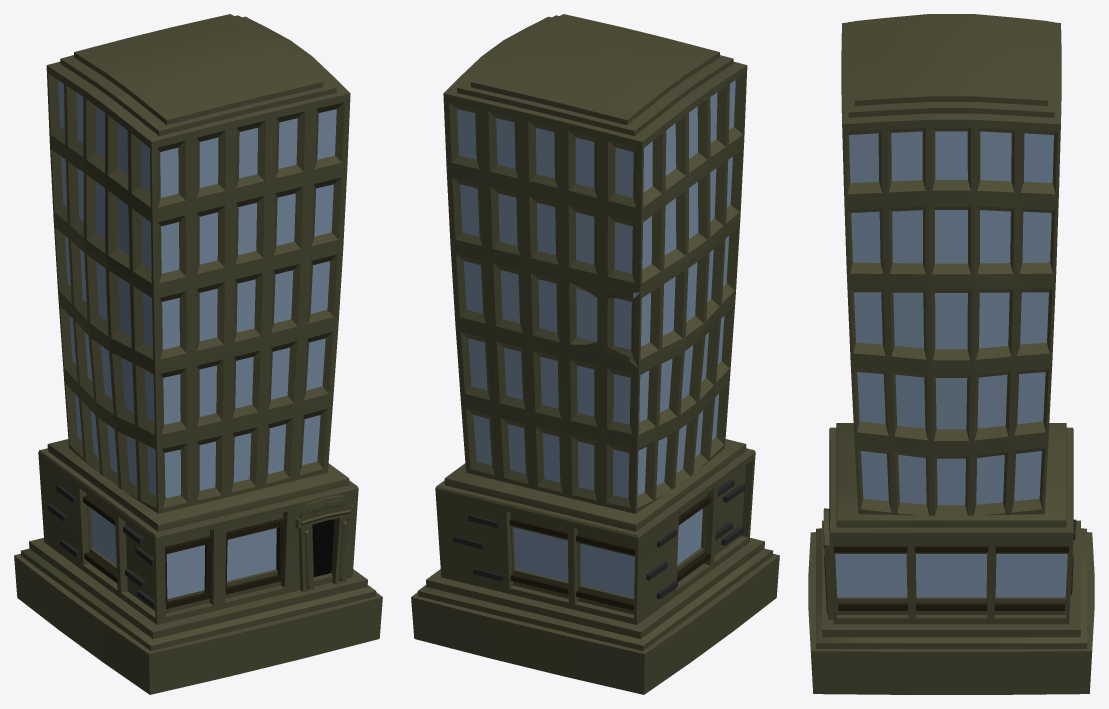
Rendered from Basic Building#1.FBX.
3 views of the same model, side by side, from view 1: azimuth 30°, elevation 25°; view 2: azimuth 150°, elevation 25°; view 3: azimuth 270°, elevation 25° (orthographic). The views are drawn at different scales.
Visible parts, largest first — view 1: Basic Building 1; view 2: Basic Building 1; view 3: Basic Building 1.
Part boxes in pixels (x1,y1,x2,y2): Basic Building 1: (14, 14, 382, 694); Basic Building 1: (411, 14, 779, 694); Basic Building 1: (808, 14, 1094, 694).
Bounding box in the file's own units: 16.65 × 37.46 × 16.65.
